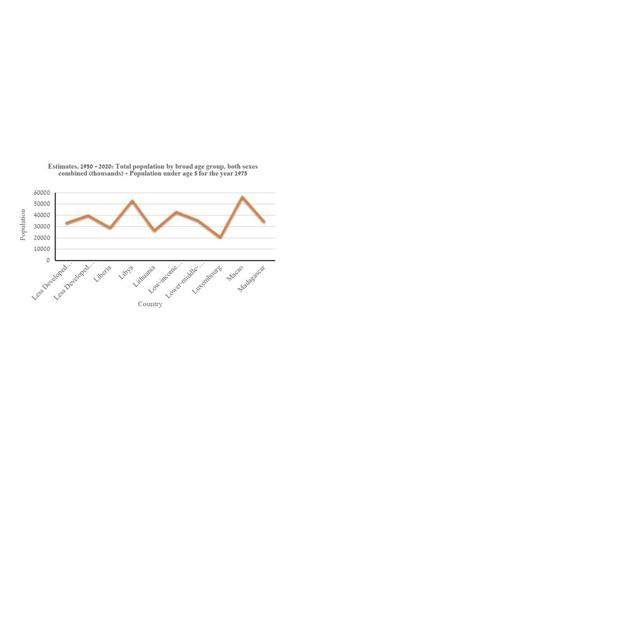Graph: (14, 159, 283, 310)
